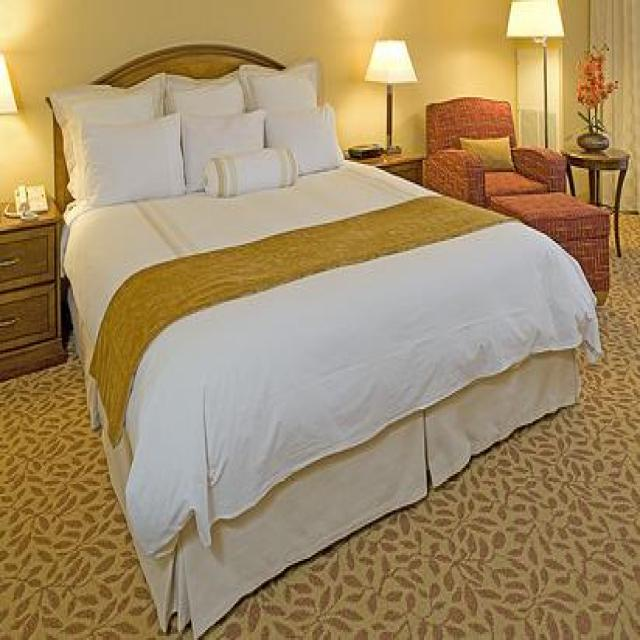bed: (46, 42, 594, 626)
